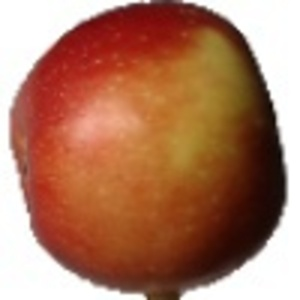maçã braeburn: (3, 3, 289, 292)
